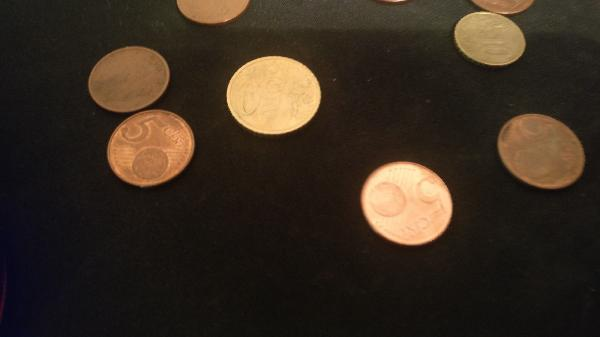Fifty Cent: (223, 54, 325, 138)
Five Cent: (98, 108, 205, 195), (492, 107, 589, 188), (368, 161, 456, 249), (86, 43, 180, 111), (171, 1, 256, 27)
Ten Cent: (452, 10, 531, 69)
